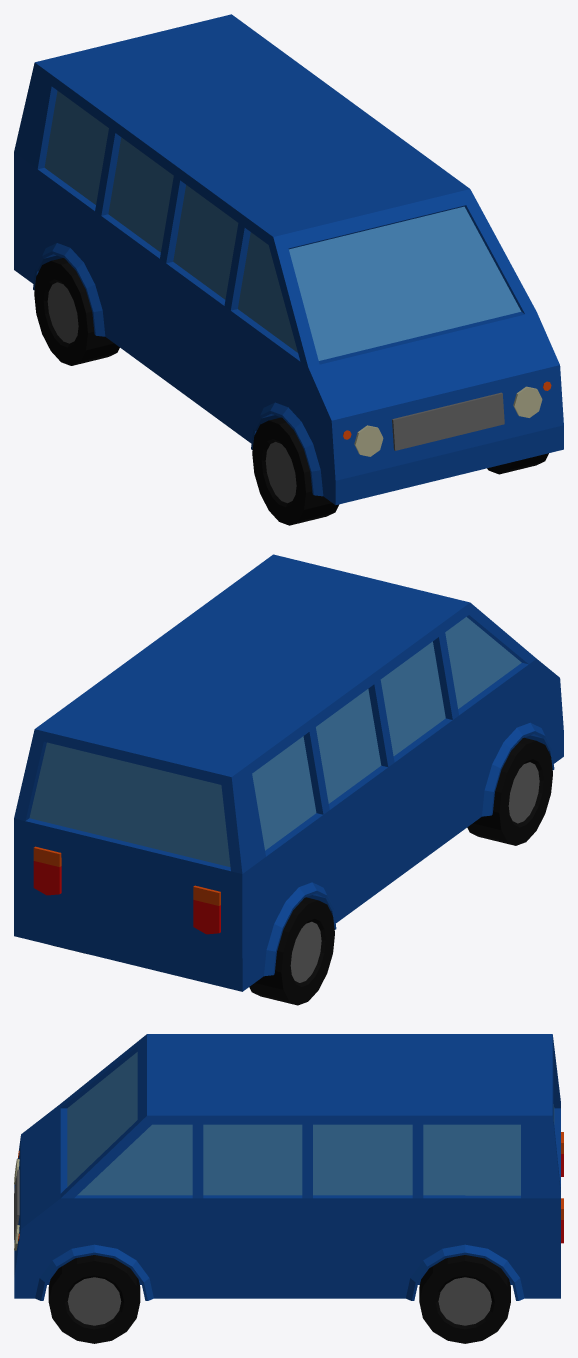
The model's file is car-minibus-blue.obj.
3 renders of one model, top to bottom at view 1: azimuth 30°, elevation 25°; view 2: azimuth 150°, elevation 25°; view 3: azimuth 270°, elevation 25°, orthographic. The views are drawn at different scales.
Visible parts, largest first — view 1: car-minibus-blue_Cube.577_carmaterial_blue, car-minibus-blue_Cube.577_windows, car-minibus-blue_Cube.577_tires, car-minibus-blue_Cube.577_metal, car-minibus-blue_Cube.577_lights; view 2: car-minibus-blue_Cube.577_carmaterial_blue, car-minibus-blue_Cube.577_windows, car-minibus-blue_Cube.577_tires, car-minibus-blue_Cube.577_metal, car-minibus-blue_Cube.577_lights.red, car-minibus-blue_Cube.577_lights.orange; view 3: car-minibus-blue_Cube.577_carmaterial_blue, car-minibus-blue_Cube.577_windows, car-minibus-blue_Cube.577_tires, car-minibus-blue_Cube.577_metal.
Part boxes in pixels (x1,y1,x2,y2): car-minibus-blue_Cube.577_carmaterial_blue: (14, 14, 563, 505); car-minibus-blue_Cube.577_windows: (44, 90, 521, 360); car-minibus-blue_Cube.577_tires: (34, 258, 548, 525); car-minibus-blue_Cube.577_metal: (47, 282, 504, 503); car-minibus-blue_Cube.577_lights: (354, 386, 542, 456); car-minibus-blue_Cube.577_carmaterial_blue: (14, 554, 563, 991); car-minibus-blue_Cube.577_windows: (29, 617, 521, 867); car-minibus-blue_Cube.577_tires: (53, 737, 552, 1005); car-minibus-blue_Cube.577_metal: (290, 762, 539, 982); car-minibus-blue_Cube.577_lights.red: (33, 861, 220, 934); car-minibus-blue_Cube.577_lights.orange: (33, 846, 220, 905); car-minibus-blue_Cube.577_carmaterial_blue: (14, 1034, 560, 1300); car-minibus-blue_Cube.577_windows: (67, 1052, 554, 1195); car-minibus-blue_Cube.577_tires: (48, 1255, 510, 1343); car-minibus-blue_Cube.577_metal: (14, 1169, 491, 1325).
Size of the model in its own units: 0.954 by 0.945 by 2.16.
